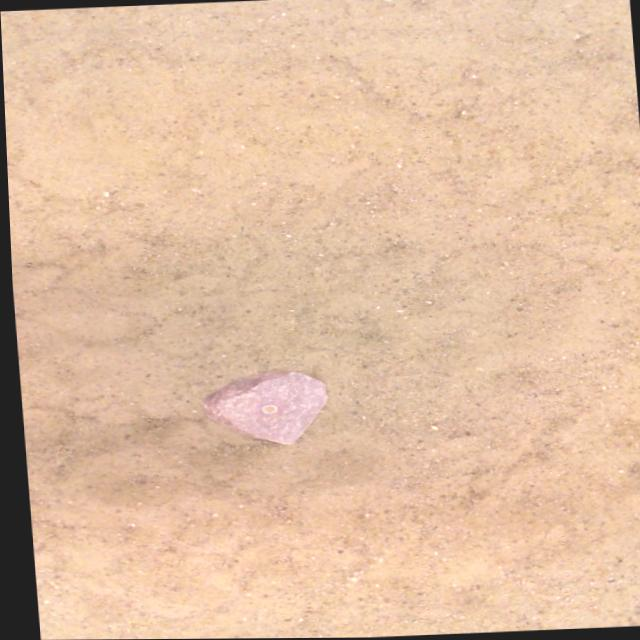rock: (199, 371, 323, 444)
